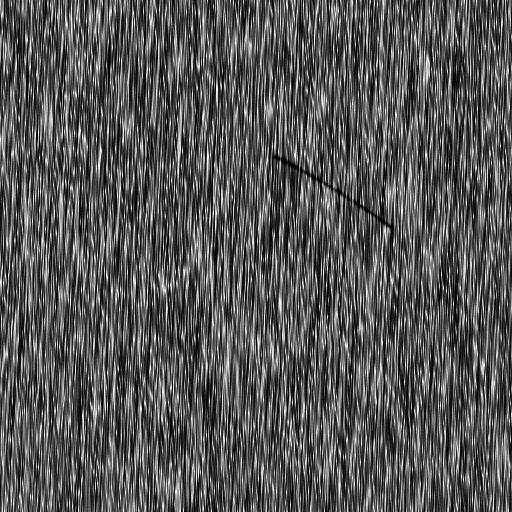DefectTypeC: (275, 152, 393, 230)
